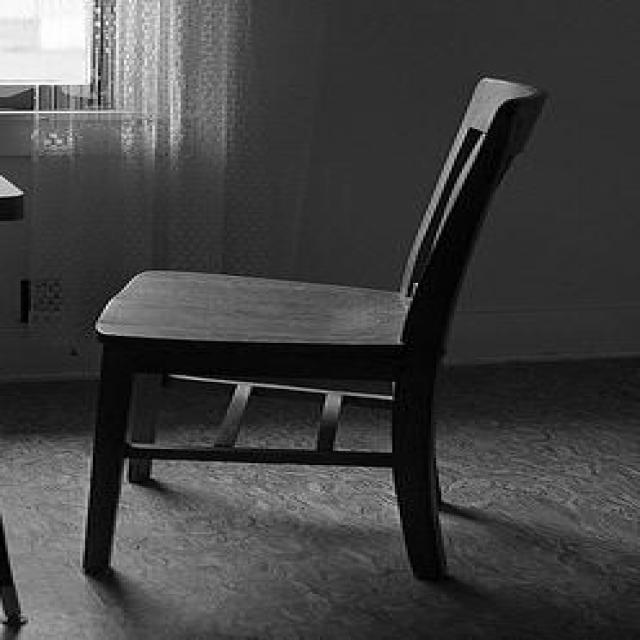chair: (94, 70, 544, 591)
